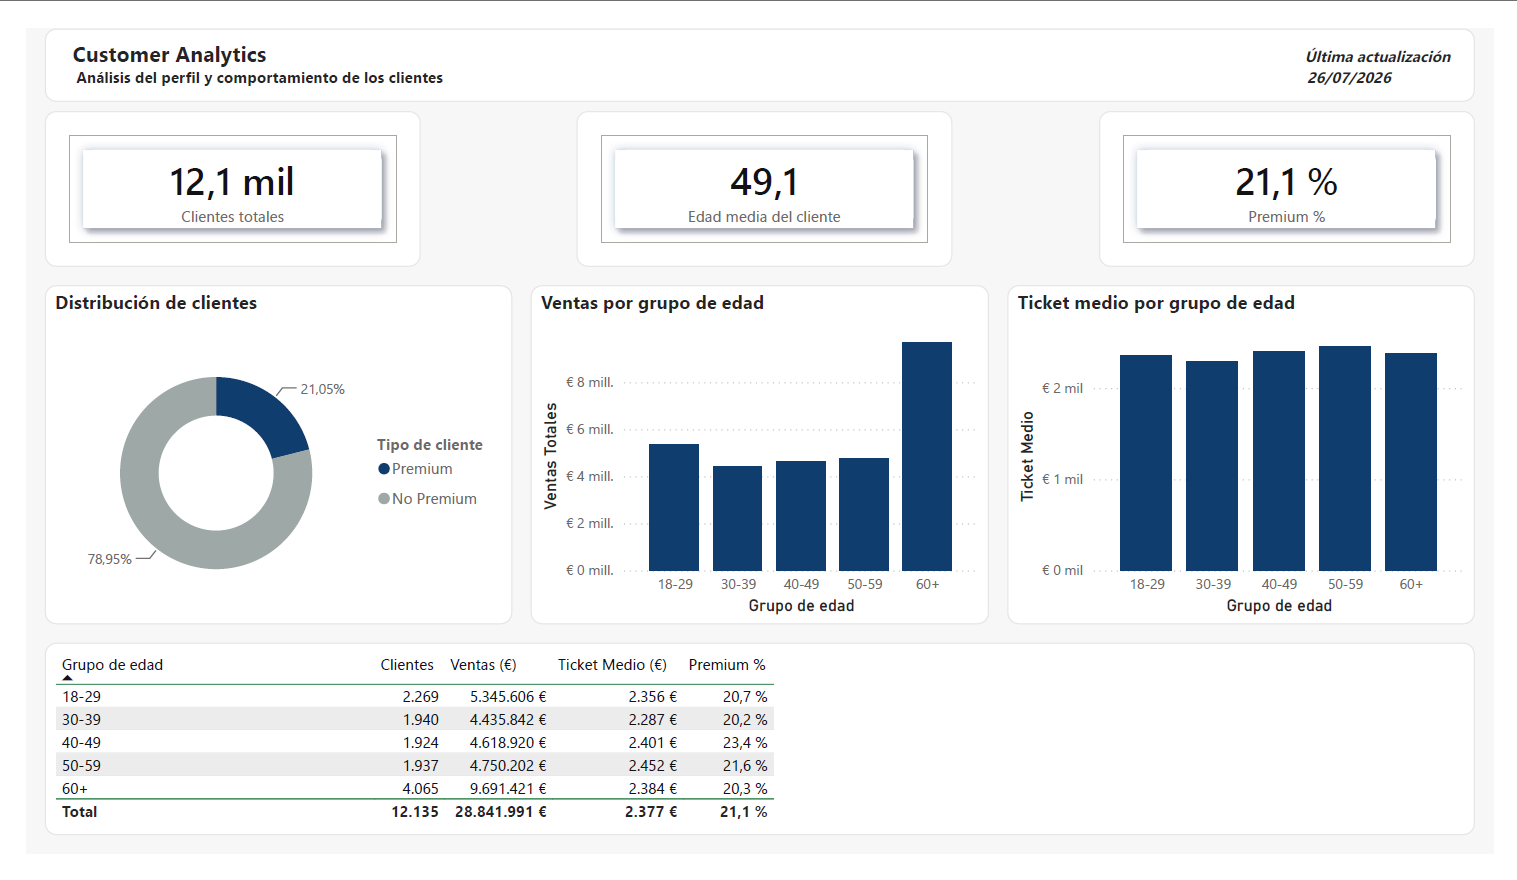

The page's visual inventory and layout, read from the dashboard file:
{"tool":"powerbi","page":{"name":"Customer Analytics","canvas":[1280,720],"ordinal":1},"visuals":[{"type":"clusteredColumnChart","title":"Ventas por grupo de edad","fields":{"Category":["Customers.Age Group"],"Y":["_Measures.Total Sales"]},"box":[440,224,400,296],"z":0,"group":"g2"},{"type":"tableEx","fields":{"Values":["Customers.Age Group","_Measures.Unique Customers","_Measures.Total Sales","_Measures.Average Order Value","_Measures.Premium %"]},"box":[16,536,1248,168],"z":0},{"type":"group","id":"g1","title":"Grupo 1","box":[16,72,328,136],"z":1000},{"type":"donutChart","title":"Distribución de clientes","fields":{"Y":["_Measures.Unique Customers"],"Category":["Customers.Customer Type"]},"box":[16,224,408,296],"z":1000,"group":"g2"},{"type":"group","id":"g2","title":"Grupo 2","box":[16,224,1248,296],"z":2000},{"type":"cardVisual","title":"Ventas Totales","fields":{"Data":["_Measures.Average Customer Age"]},"box":[480,72,328,136],"z":3000},{"type":"cardVisual","title":"Ventas Totales","fields":{"Data":["_Measures.Unique Customers"]},"box":[16,72,328,136],"z":4000,"group":"g1"},{"type":"cardVisual","title":"Ventas Totales","fields":{"Data":["_Measures.Premium %"]},"box":[936,72,328,136],"z":4000},{"type":"textbox","box":[16,0,1248,64],"z":5000},{"type":"clusteredColumnChart","title":"Ticket medio por grupo de edad","fields":{"Category":["Customers.Age Group"],"Y":["_Measures.Average Order Value"]},"box":[856,224,408,296],"z":5000,"group":"g2"}]}

Visuals, with their boxes on the page's 1280x720 design canvas (x1, y1, x2, y2). These are canvas units, not pixel positions in the 1517x880 screenshot, which may show the page scaled, cropped or inside an application window:
"Ventas por grupo de edad" clusteredColumnChart: (440,224,840,520)
tableEx - Customers.Age Group x _Measures.Unique Customers: (16,536,1264,704)
"Grupo 1" group: (16,72,344,208)
"Distribución de clientes" donutChart: (16,224,424,520)
"Grupo 2" group: (16,224,1264,520)
"Ventas Totales" cardVisual: (480,72,808,208)
"Ventas Totales" cardVisual: (16,72,344,208)
"Ventas Totales" cardVisual: (936,72,1264,208)
textbox: (16,0,1264,64)
"Ticket medio por grupo de edad" clusteredColumnChart: (856,224,1264,520)
